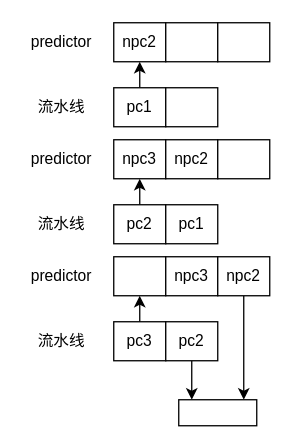
This 293x448 diagram has some shape labels left out. Here are the shapes that lost their labels. From the top down, the box of each, then its label:
(112, 255, 166, 296): npc4
(177, 398, 257, 426): 比较
